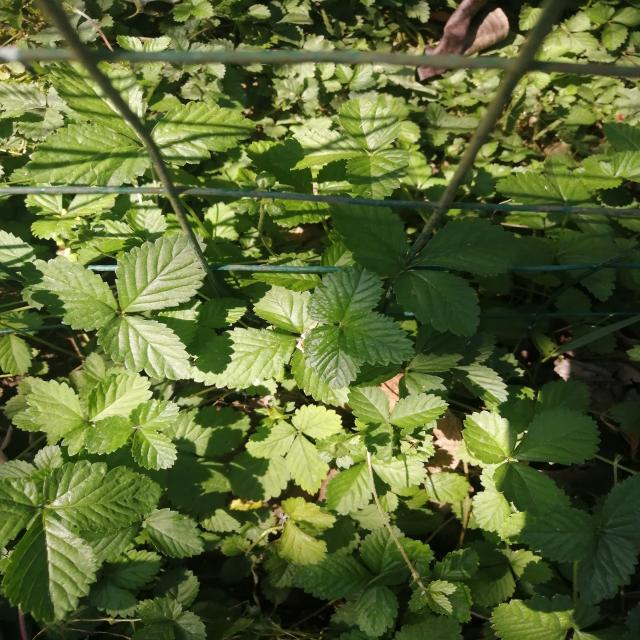Mock_strawberry: (8, 240, 221, 382), (212, 271, 408, 403)
